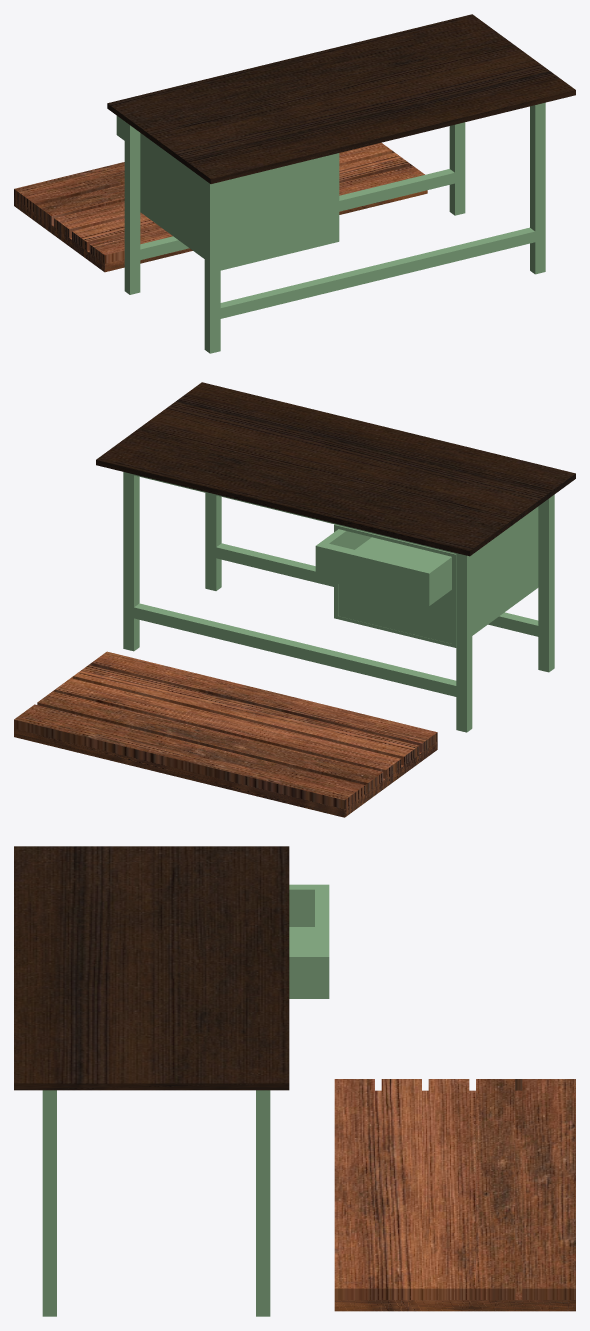
Rendered from Meja Sektor Frais.fbx.
The picture shows the model from 3 angles, top to bottom: view 1: azimuth 30°, elevation 25°; view 2: azimuth 150°, elevation 25°; view 3: azimuth 270°, elevation 25°; orthographic projection. The views are drawn at different scales.
Parts seen in each view (by area): view 1: Cube.001, Cube, Cube.004, Cube.002; view 2: Cube.001, Cube.002, Cube, Cube.004, Cube.006, Cube.005; view 3: Cube.001, Cube.002, Cube, Cube.006.
Part boxes in pixels (<box>): Cube.001: <box>107,14,575,183</box>; Cube: <box>124,102,545,353</box>; Cube.004: <box>140,133,339,270</box>; Cube.002: <box>14,142,427,272</box>; Cube.001: <box>96,382,575,556</box>; Cube.002: <box>14,651,437,817</box>; Cube: <box>123,472,554,732</box>; Cube.004: <box>334,506,538,647</box>; Cube.006: <box>315,529,451,605</box>; Cube.005: <box>338,584,451,643</box>; Cube.001: <box>14,846,289,1090</box>; Cube.002: <box>334,1079,575,1311</box>; Cube: <box>42,1090,270,1316</box>; Cube.006: <box>289,884,329,998</box>.
Bounding box in the file's own units: 1771 × 858 × 1775.
Materials: 6 (2 with a texture image).
